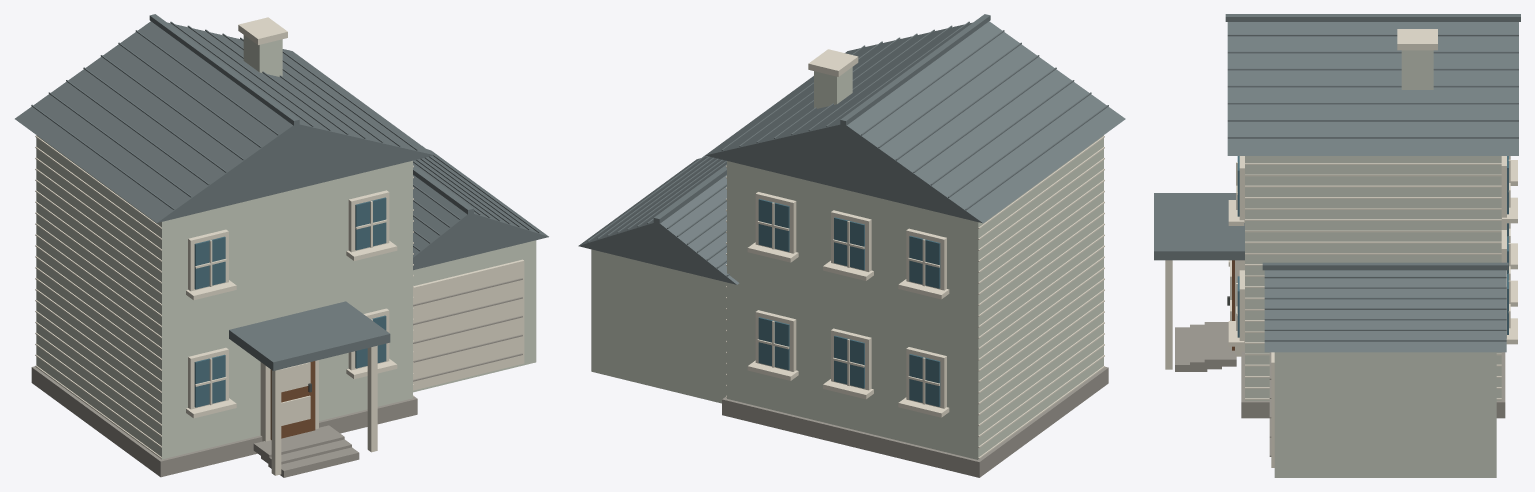
The model's file is house-3.glb.
The picture shows the model from 3 angles, left to right: view 1: azimuth 30°, elevation 25°; view 2: azimuth 150°, elevation 25°; view 3: azimuth 270°, elevation 25°; orthographic projection. The views are drawn at different scales.
Parts seen in each view (by area): view 1: house-3; view 2: house-3; view 3: house-3.
Part boxes in pixels (x1,y1,x2,y2): house-3: (15, 14, 548, 477); house-3: (578, 14, 1125, 477); house-3: (1154, 14, 1520, 477).
Bounding box in the file's own units: 9.82 × 7.77 × 7.43.
